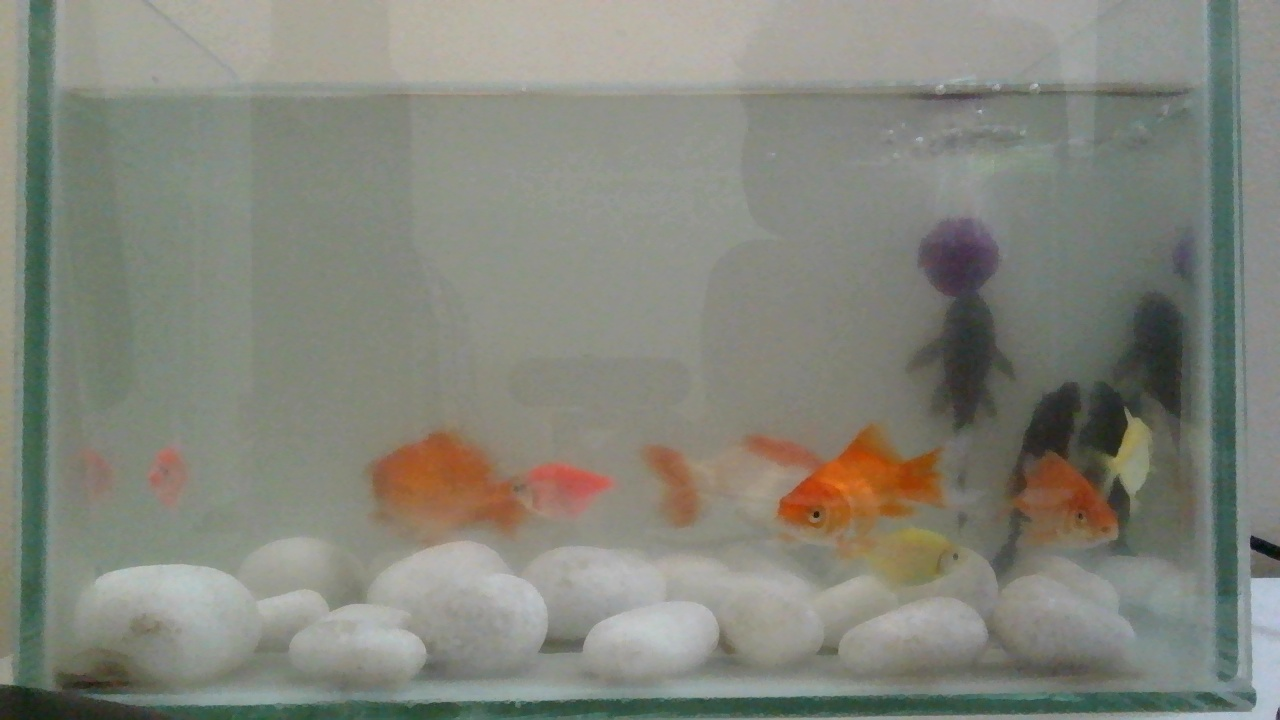fish: (361, 422, 587, 645), (761, 422, 956, 571), (362, 423, 547, 555), (516, 442, 615, 526), (144, 437, 192, 512)
